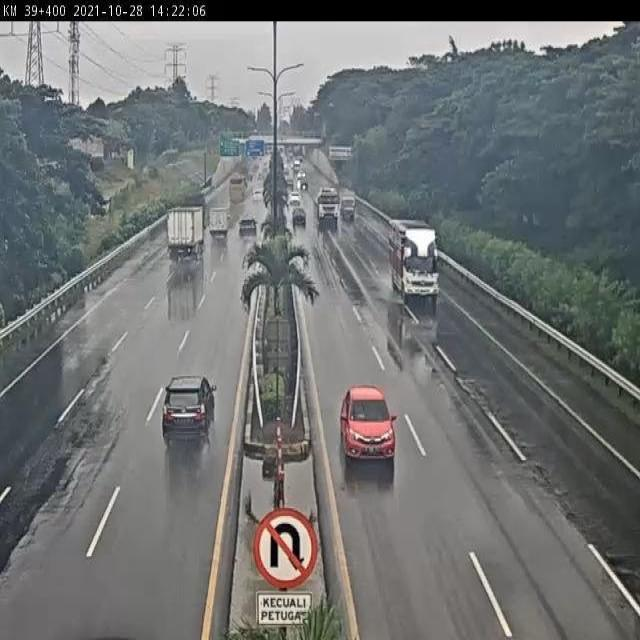Bus: (228, 176, 248, 204)
Car: (337, 385, 398, 465), (162, 375, 217, 444), (237, 217, 259, 237), (291, 207, 307, 226), (288, 191, 302, 206), (252, 190, 265, 202)
Truck: (387, 218, 442, 303), (164, 203, 207, 259), (315, 187, 340, 222), (208, 206, 232, 238), (340, 189, 357, 220)
